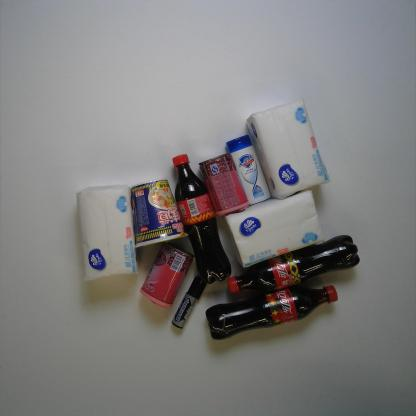Canned Food: (138, 238, 196, 312), (197, 151, 250, 217)
Drink: (226, 232, 360, 294), (171, 152, 232, 285), (204, 283, 339, 341)
Instant Noodles: (129, 178, 188, 249)
Personal Hygiene: (224, 133, 272, 207)
Stationery: (170, 273, 209, 330)
Tissue: (244, 96, 332, 200), (220, 188, 326, 268), (75, 183, 140, 284)
